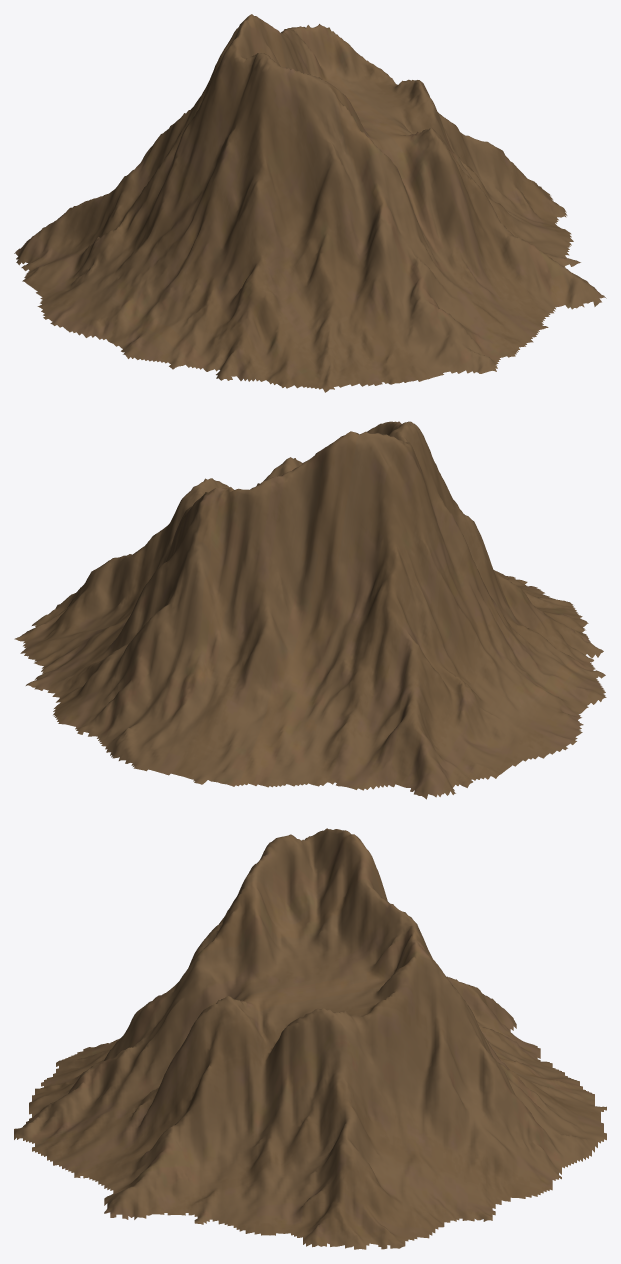
3 views of the same model, one above another, from view 1: azimuth 30°, elevation 25°; view 2: azimuth 150°, elevation 25°; view 3: azimuth 270°, elevation 25° (orthographic). The views are drawn at different scales.
Visible parts, largest first — view 1: SM_Volcano_LOD0; view 2: SM_Volcano_LOD0; view 3: SM_Volcano_LOD0.
Boxes of the visible parts, box(x1,y1,x2,y2) form: SM_Volcano_LOD0: box(14, 14, 606, 392); SM_Volcano_LOD0: box(14, 421, 606, 799); SM_Volcano_LOD0: box(14, 828, 606, 1249).
Bounding box in the file's own units: 711 × 346 × 697.
Materials: 1 (1 with a texture image).
